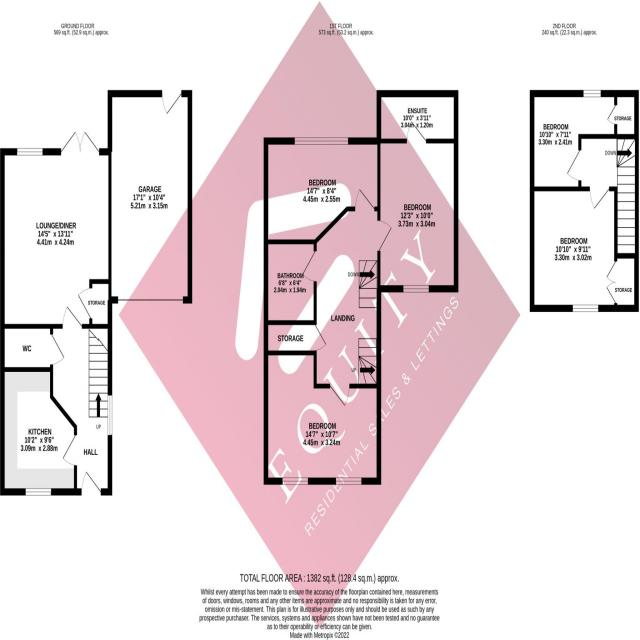DOOR: (80, 468, 102, 496), (61, 304, 83, 330), (566, 147, 582, 182), (161, 90, 182, 116), (301, 250, 317, 283), (588, 186, 610, 210), (354, 187, 375, 212), (329, 383, 350, 408), (61, 434, 77, 466), (377, 220, 392, 251), (406, 120, 426, 143)
DOUBLE DOOR: (60, 129, 100, 156)
ROOM: (0, 129, 111, 329), (263, 350, 381, 485), (377, 119, 459, 293), (264, 137, 381, 244), (530, 187, 617, 313), (0, 367, 77, 496), (529, 90, 614, 192)
WINDOW: (294, 136, 349, 145), (571, 303, 599, 313), (107, 392, 113, 437), (281, 477, 309, 486), (16, 147, 43, 156), (24, 488, 53, 496), (335, 477, 362, 485), (402, 285, 429, 293), (583, 89, 601, 98)
